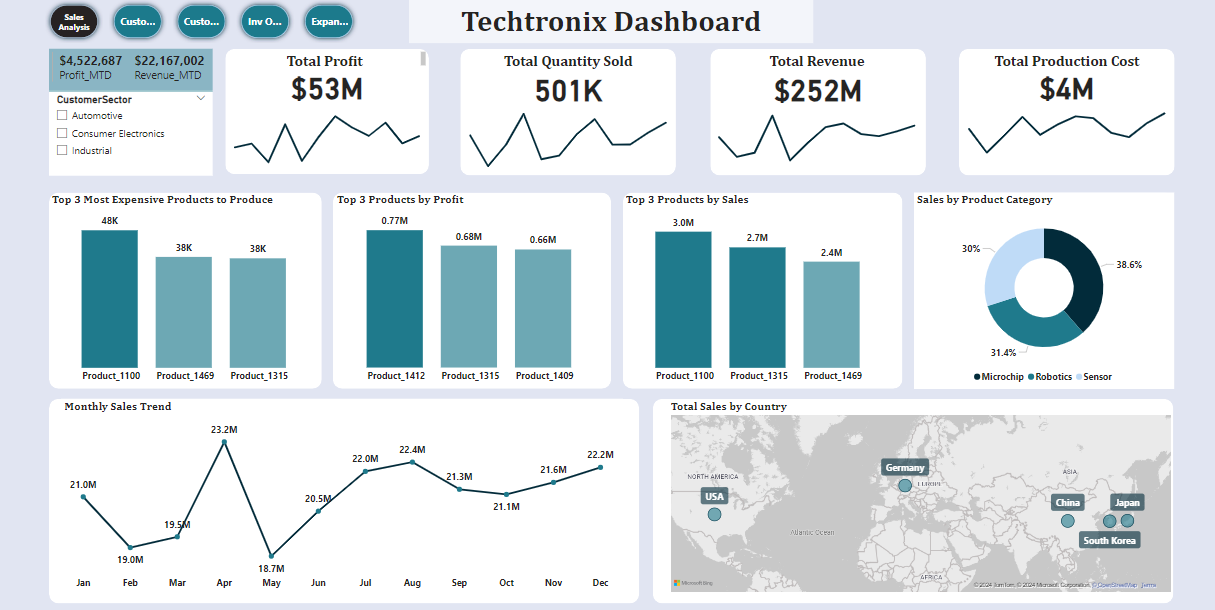

The page's visual inventory and layout, read from the dashboard file:
{"tool":"powerbi","page":{"name":"Sales Analysis","canvas":[2000,1000],"ordinal":0},"visuals":[{"type":"shape","box":[370,80,332.5,205],"z":0},{"type":"shape","box":[753.4,79.4,352.3,206.8],"z":1000},{"type":"shape","box":[1161.8,79.4,352.3,206.8],"z":2000},{"type":"shape","box":[1566.4,79.4,352.3,206.8],"z":3000},{"type":"card","fields":{"Values":["Measures (2).Total Profit"]},"box":[370,95,332.5,87.5],"z":4000},{"type":"lineChart","fields":{"Category":["Calendar_Dim.Month_Name"],"Y":["Sum(Techtonix Facts Table.Profit)"]},"box":[370,160,332.5,120],"z":5000},{"type":"textbox","box":[370,80,332.5,35],"z":6000},{"type":"card","fields":{"Values":["Measures (2).Total Quantity Sold"]},"box":[753.4,99.8,352.3,86.4],"z":7000},{"type":"textbox","box":[753.4,79.4,352.3,40.9],"z":8000},{"type":"lineChart","fields":{"Category":["Calendar_Dim.Month_Name"],"Y":["Sum(Techtonix Facts Table.QuantitySold)"]},"box":[753.4,161.2,352.3,118.2],"z":9000},{"type":"shape","box":[81.8,313.6,445.5,320.5],"z":10000},{"type":"shape","box":[545.5,313.6,454.5,320.5],"z":11000},{"type":"shape","box":[81.8,650,963.6,334.1],"z":12000},{"type":"shape","box":[1068.2,650,850,334.1],"z":13000},{"type":"shape","box":[1493.2,313.6,425,320.5],"z":14000},{"type":"card","fields":{"Values":["Measures (2).Total Revenue"]},"box":[1161.8,99.8,352.3,86.4],"z":15000},{"type":"lineChart","fields":{"Category":["Calendar_Dim.Month_Name"],"Y":["Sum(Techtonix Facts Table.TotalSaleAmount)"]},"box":[1159.6,161.2,352.3,118.2],"z":16000},{"type":"textbox","box":[1159.6,79.4,352.3,40.9],"z":17000},{"type":"card","fields":{"Values":["Measures (2).Total Production Cost"]},"box":[1566.4,95.3,352.3,86.4],"z":18000},{"type":"lineChart","fields":{"Category":["Calendar_Dim.Month_Name"],"Y":["Sum(Techtonix Facts Table.ProductionCost)"]},"box":[1566.4,161.2,352.3,118.2],"z":19000},{"type":"textbox","box":[1566.4,79.4,352.3,40.9],"z":20000},{"type":"clusteredColumnChart","title":"Top 3 Most Expensive Products to Produce","fields":{"Category":["Product_Dim.ProductName"],"Y":["Sum(Techtonix Facts Table.ProductionCost)"]},"box":[81.8,313.6,445.5,320.5],"z":21000},{"type":"shape","box":[1018.2,313.6,456.8,320.5],"z":22000},{"type":"clusteredColumnChart","title":"Top 3 Products by Sales","fields":{"Category":["Product_Dim.ProductName"],"Y":["Sum(Techtonix Facts Table.TotalSaleAmount)"]},"box":[1018.2,313.6,445.5,320.5],"z":23000},{"type":"donutChart","title":"Sales by Product Category","fields":{"Category":["Product_Dim.ProductCategory"],"Y":["Sum(Techtonix Facts Table.TotalSaleAmount)"]},"box":[1493.2,313.6,425,320.5],"z":24000},{"type":"lineChart","title":"Monthly Sales Trend","fields":{"Y":["Sum(Techtonix Facts Table.TotalSaleAmount)"],"Category":["Calendar_Dim.Year","Calendar_Dim.Quarter","Calendar_Dim.Month_Name"]},"box":[102.3,650,915.9,320.5],"z":25000},{"type":"map","title":"Total Sales by Country","fields":{"Category":["Location_Dim.Country"],"Size":["Measures (2).Total Revenue"]},"box":[1090.9,650,827.3,320.5],"z":26000},{"type":"textbox","box":[670,0,660,70],"z":27000},{"type":"pageNavigator","box":[75,0,512.5,70],"z":28000},{"type":"slicer","fields":{"Values":["Customer_Dim.CustomerSector"]},"box":[82.5,147.5,267.5,140],"z":29000},{"type":"multiRowCard","fields":{"Values":["Measures (2).Profit_MTD","Measures (2).Revenue_MTD"]},"box":[82.5,80,267.5,70],"z":30000},{"type":"clusteredColumnChart","title":"Top 3 Products by Profit","fields":{"Category":["Product_Dim.ProductName"],"Y":["Sum(Techtonix Facts Table.Profit)"]},"box":[546,314,446,320],"z":31000}]}

Visuals, with their boxes in screenshot pixels (x1, y1, x2, y2), scaled from the page's 2000x1000 canvas onto the 1215x610 screenshot:
shape: (left=225, top=49, right=427, bottom=174)
shape: (left=458, top=48, right=672, bottom=175)
shape: (left=706, top=48, right=920, bottom=175)
shape: (left=952, top=48, right=1166, bottom=175)
card - Measures (2).Total Profit: (left=225, top=58, right=427, bottom=111)
lineChart - Calendar_Dim.Month_Name x Sum(Techtonix Facts Table.Profit): (left=225, top=98, right=427, bottom=171)
textbox: (left=225, top=49, right=427, bottom=70)
card - Measures (2).Total Quantity Sold: (left=458, top=61, right=672, bottom=114)
textbox: (left=458, top=48, right=672, bottom=73)
lineChart - Calendar_Dim.Month_Name x Sum(Techtonix Facts Table.QuantitySold): (left=458, top=98, right=672, bottom=170)
shape: (left=50, top=191, right=320, bottom=387)
shape: (left=331, top=191, right=608, bottom=387)
shape: (left=50, top=396, right=635, bottom=600)
shape: (left=649, top=396, right=1165, bottom=600)
shape: (left=907, top=191, right=1165, bottom=387)
card - Measures (2).Total Revenue: (left=706, top=61, right=920, bottom=114)
lineChart - Calendar_Dim.Month_Name x Sum(Techtonix Facts Table.TotalSaleAmount): (left=704, top=98, right=918, bottom=170)
textbox: (left=704, top=48, right=918, bottom=73)
card - Measures (2).Total Production Cost: (left=952, top=58, right=1166, bottom=111)
lineChart - Calendar_Dim.Month_Name x Sum(Techtonix Facts Table.ProductionCost): (left=952, top=98, right=1166, bottom=170)
textbox: (left=952, top=48, right=1166, bottom=73)
"Top 3 Most Expensive Products to Produce" clusteredColumnChart: (left=50, top=191, right=320, bottom=387)
shape: (left=619, top=191, right=896, bottom=387)
"Top 3 Products by Sales" clusteredColumnChart: (left=619, top=191, right=889, bottom=387)
"Sales by Product Category" donutChart: (left=907, top=191, right=1165, bottom=387)
"Monthly Sales Trend" lineChart: (left=62, top=396, right=619, bottom=592)
"Total Sales by Country" map: (left=663, top=396, right=1165, bottom=592)
textbox: (left=407, top=0, right=808, bottom=43)
pageNavigator: (left=46, top=0, right=357, bottom=43)
slicer - Customer_Dim.CustomerSector: (left=50, top=90, right=213, bottom=175)
multiRowCard - Measures (2).Profit_MTD x Measures (2).Revenue_MTD: (left=50, top=49, right=213, bottom=92)
"Top 3 Products by Profit" clusteredColumnChart: (left=332, top=192, right=603, bottom=387)
